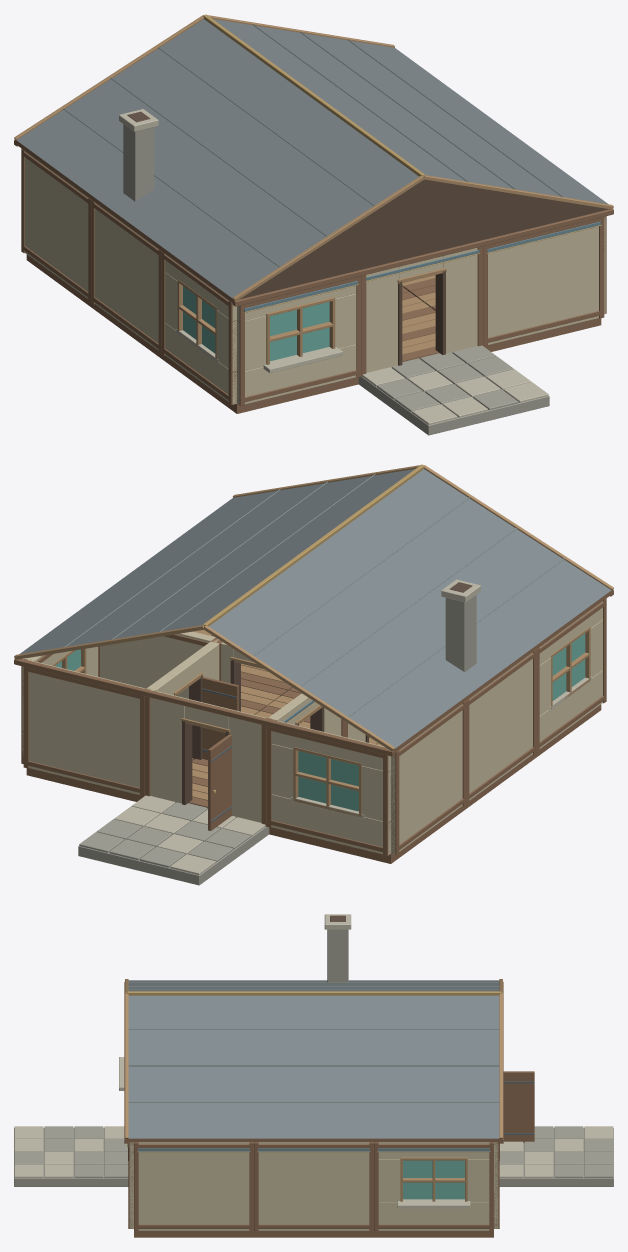
File: tv_31_01_tavern.glb
3 views of the same model, one above another, from view 1: azimuth 30°, elevation 25°; view 2: azimuth 150°, elevation 25°; view 3: azimuth 270°, elevation 25° (orthographic). The views are drawn at different scales.
Visible parts, largest first — view 1: s_roof_12x12_0029, s_window_timber_0013, s_wall_timber_0024, floor_stone_0003, s_door_timber_0019, s_window_timber_0012, s_wall_timber_0018, s_wall_timber_0015, s_chimney_0033, floor_woodfloor_0004, floor_woodfloor_0000, floor_woodfloor_0008; view 2: s_roof_12x12_0029, s_window_timber_0017, s_wall_timber_0028, s_door_timber_0022, floor_stone_0007, s_wall_timber_0018, s_window_timber_0012, s_wall_timber_0015, s_wall_timber_0026, s_door_timber_0021, s_chimney_0033, s_door_timber_0016 (+8 smaller); view 3: s_roof_12x12_0029, s_wall_timber_0023, s_wall_timber_0025, s_window_timber_0027, floor_stone_0003, floor_stone_0007, s_door_timber_0022, s_chimney_0033, floor_woodfloor_0008, floor_woodfloor_0009, floor_woodfloor_0010, s_wall_timber_0024 (+1 smaller).
Part boxes in pixels (box(x1,y1,x2,y2)): s_roof_12x12_0029: box(14, 14, 613, 306); s_window_timber_0013: box(237, 276, 361, 406); s_wall_timber_0024: box(483, 217, 604, 346); floor_stone_0003: box(358, 345, 549, 435); s_door_timber_0019: box(361, 246, 482, 376); s_window_timber_0012: box(161, 251, 236, 404); s_wall_timber_0018: box(21, 148, 91, 302); s_wall_timber_0015: box(91, 200, 161, 353); s_chimney_0033: box(119, 109, 158, 201); floor_woodfloor_0004: box(358, 292, 438, 384); floor_woodfloor_0000: box(167, 357, 358, 413); floor_woodfloor_0008: box(410, 285, 601, 351); s_roof_12x12_0029: box(14, 464, 613, 756); s_window_timber_0017: box(266, 720, 390, 856); s_wall_timber_0028: box(23, 659, 150, 796); s_door_timber_0022: box(145, 690, 271, 830); floor_stone_0007: box(78, 795, 269, 885); s_wall_timber_0018: box(391, 701, 466, 854); s_window_timber_0012: box(536, 598, 606, 752); s_wall_timber_0015: box(466, 650, 536, 803); s_wall_timber_0026: box(98, 631, 218, 698); s_door_timber_0021: box(145, 640, 238, 759); s_chimney_0033: box(441, 579, 480, 671); s_door_timber_0016: box(266, 693, 345, 736); s_roof_12x12_0029: box(124, 979, 503, 1143); s_wall_timber_0023: box(134, 1142, 253, 1231); s_wall_timber_0025: box(254, 1142, 373, 1231); s_window_timber_0027: box(374, 1142, 493, 1231); floor_stone_0003: box(14, 1126, 128, 1186); floor_stone_0007: box(499, 1126, 613, 1186); s_door_timber_0022: box(499, 1071, 534, 1160); s_chimney_0033: box(324, 914, 351, 982); floor_woodfloor_0008: box(134, 1231, 253, 1237); floor_woodfloor_0009: box(254, 1231, 373, 1237); floor_woodfloor_0010: box(374, 1231, 493, 1237); s_wall_timber_0024: box(127, 1142, 133, 1228).
Size of the model in its own units: 12.76 by 6.46 by 20.
